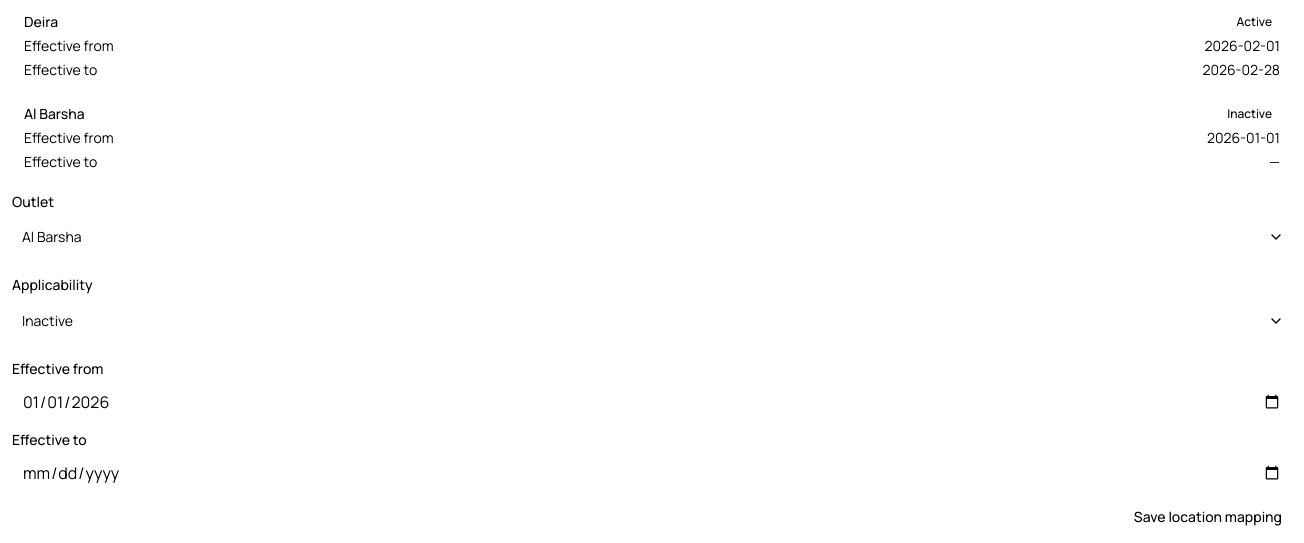
Test: ChannelLocationForm (D07) › loads the selected branch's saved status and dates; fresh branches start active with open dates
expect the dropdown named "Applicability" reads "Inactive": met, box [12, 302, 1292, 338]
expect the date field labelled "Effective from" holds "2026-01-01": met, box [12, 386, 1292, 418]
Press the mouse on the dropdown named "Outlet" at point(52, 237), box [12, 219, 1292, 255]
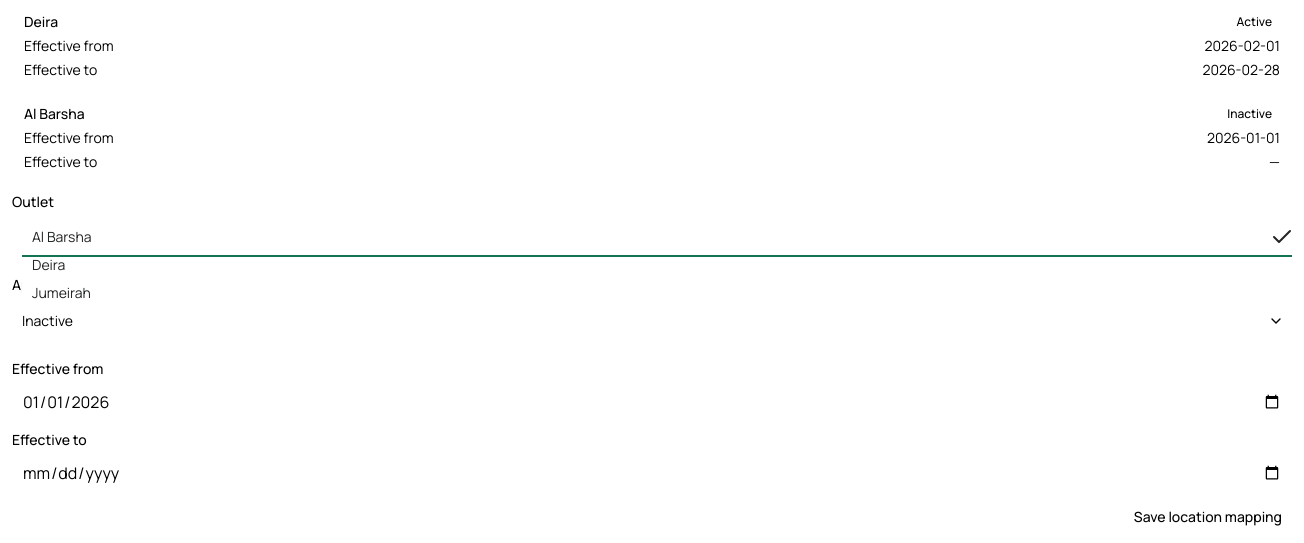
Click the option "Deira" at point(49, 265), box [32, 255, 65, 274]
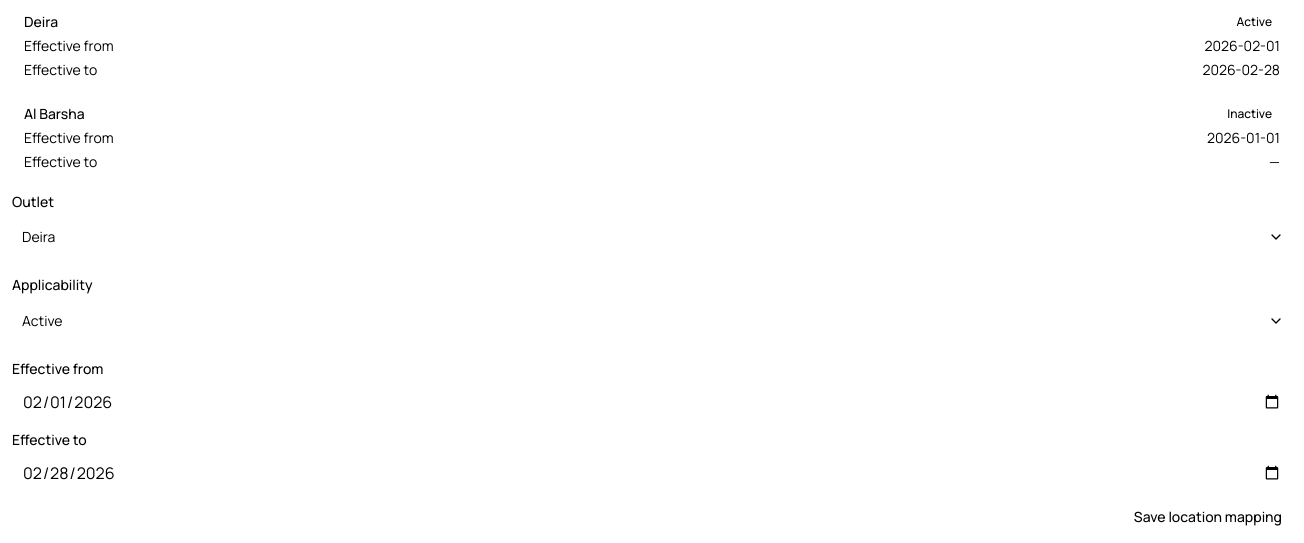
expect the dropdown named "Applicability" reads "Active": met, box [12, 302, 1292, 338]
expect the date field labelled "Effective from" holds "2026-02-01": met, box [12, 386, 1292, 418]
expect the date field labelled "Effective to" holds "2026-02-28": met, box [12, 457, 1292, 489]
Press the mouse on the dropdown named "Outlet" at point(39, 237), box [12, 219, 1292, 255]
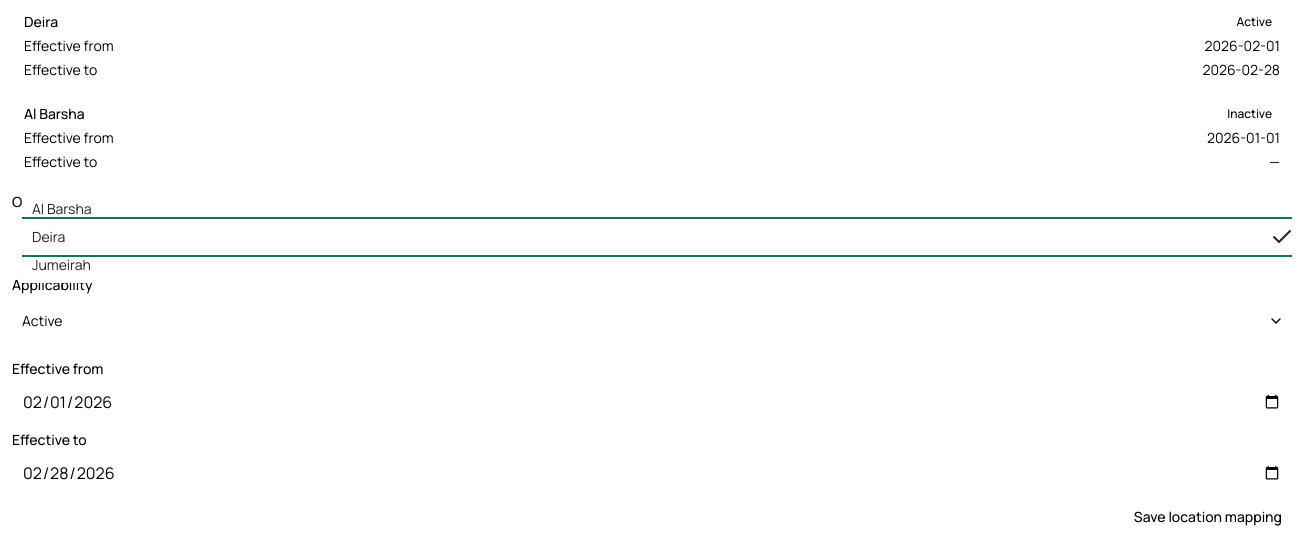
Click the option "Jumeirah" at point(62, 265), box [32, 255, 91, 274]
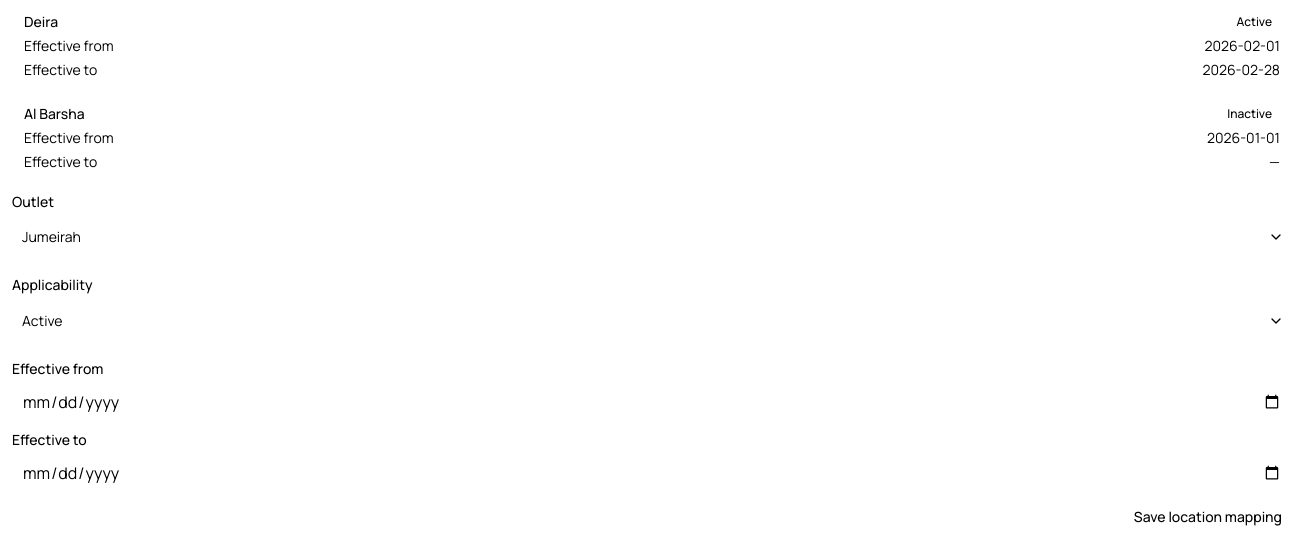
expect the dropdown named "Applicability" reads "Active": met, box [12, 302, 1292, 338]
expect the date field labelled "Effective from" is empty: met, box [12, 386, 1292, 418]
expect the date field labelled "Effective to" is empty: met, box [12, 457, 1292, 489]
Press the mouse on the dropdown named "Outlet" at point(51, 237), box [12, 219, 1292, 255]
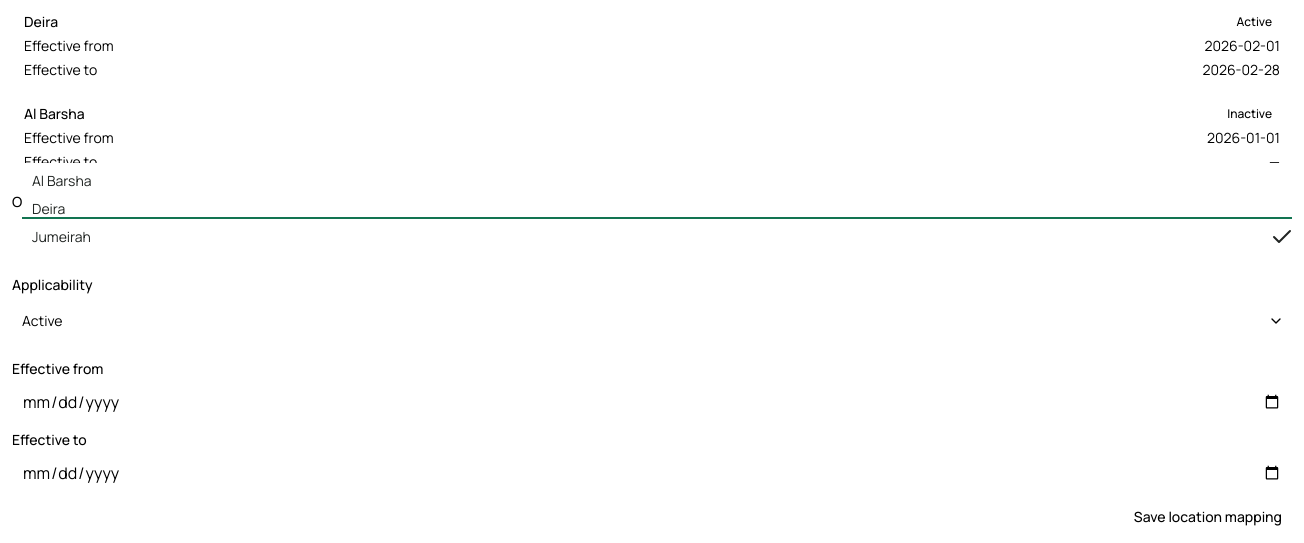
Click the option "Al Barsha" at point(62, 181), box [32, 171, 92, 190]
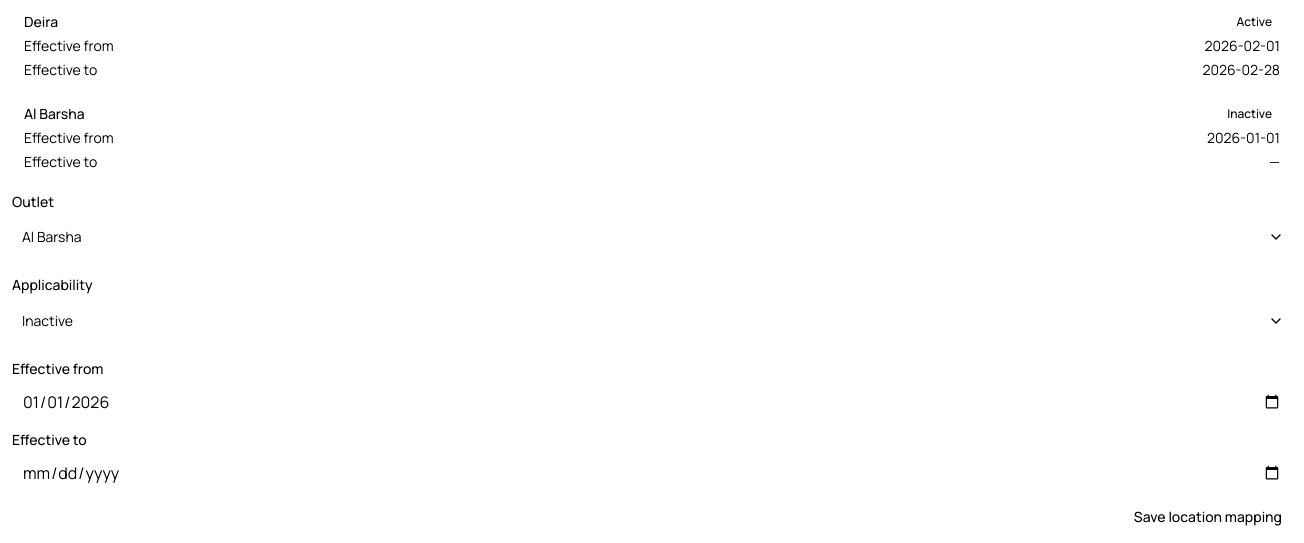
expect the date field labelled "Effective to" is empty: met, box [12, 457, 1292, 489]
expect the dropdown named "Applicability" reads "Inactive": met, box [12, 302, 1292, 338]
expect the date field labelled "Effective from" holds "2026-01-01": met, box [12, 386, 1292, 418]
